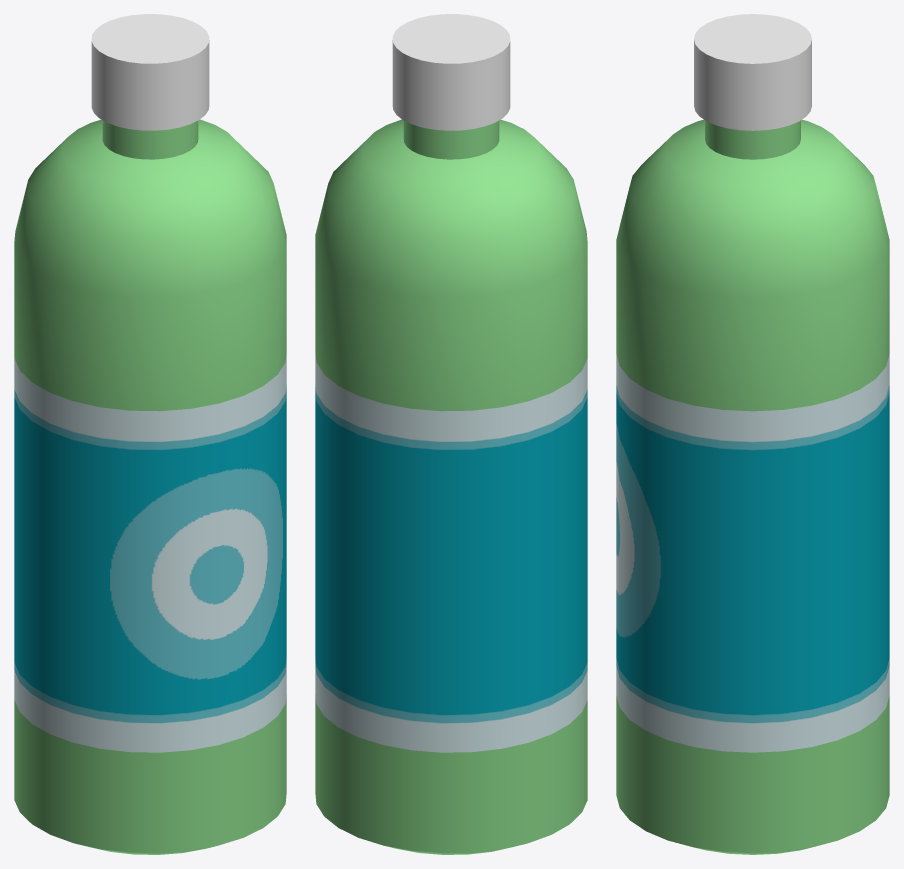
The model's file is Dish_Soap.fbx.
3 views of the same model, side by side, from view 1: azimuth 30°, elevation 25°; view 2: azimuth 150°, elevation 25°; view 3: azimuth 270°, elevation 25° (orthographic).
Visible parts, largest first — view 1: Dish_Soap; view 2: Dish_Soap; view 3: Dish_Soap.
Boxes of the visible parts, x1,y1,x2,y2 form: Dish_Soap: (14,14,286,854); Dish_Soap: (315,14,587,854); Dish_Soap: (616,14,889,854).
Bounding box in the file's own units: 0.074 × 0.23 × 0.074.
Materials: 3 (1 with a texture image).
